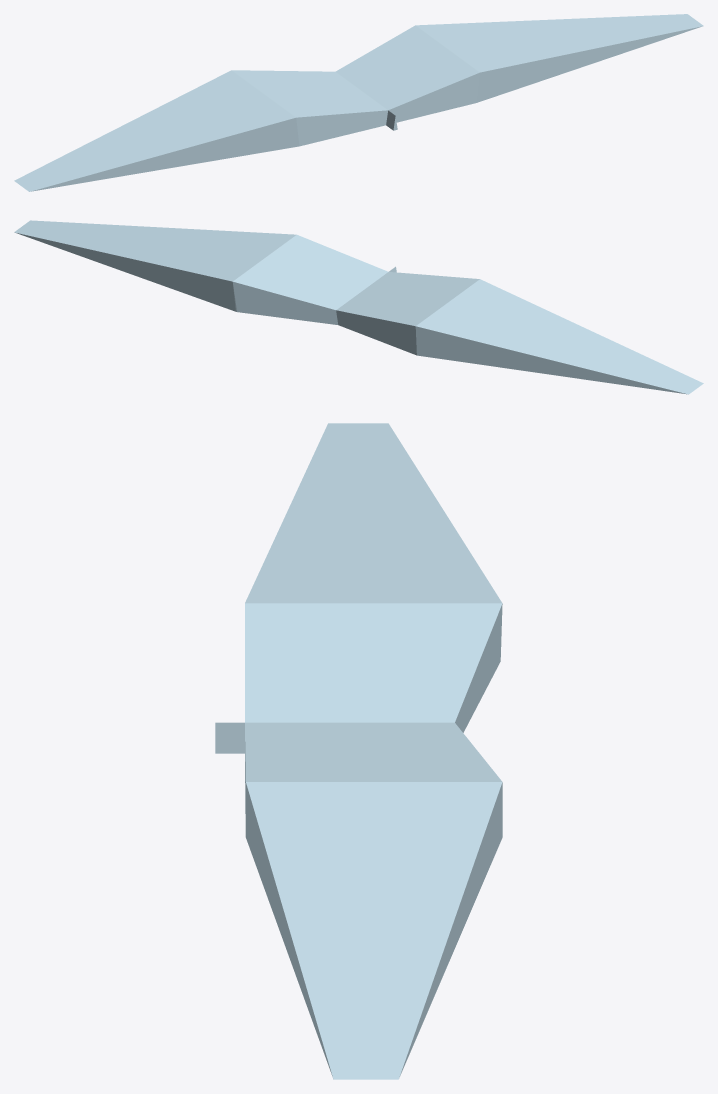
Rendered from ImageToStl part studio 1.fbx.
3 views of the same model, one above another, from view 1: azimuth 30°, elevation 25°; view 2: azimuth 150°, elevation 25°; view 3: azimuth 270°, elevation 25° (orthographic). The views are drawn at different scales.
Parts seen in each view (by area): view 1: imagetostl_mesh0; view 2: imagetostl_mesh0; view 3: imagetostl_mesh0.
Part boxes in pixels (bbox=[...]): imagetostl_mesh0: bbox=[14, 14, 703, 191]; imagetostl_mesh0: bbox=[14, 220, 703, 394]; imagetostl_mesh0: bbox=[215, 423, 502, 1079].
Size of the model in its own units: 13.52 by 0.5656 by 2.5.
